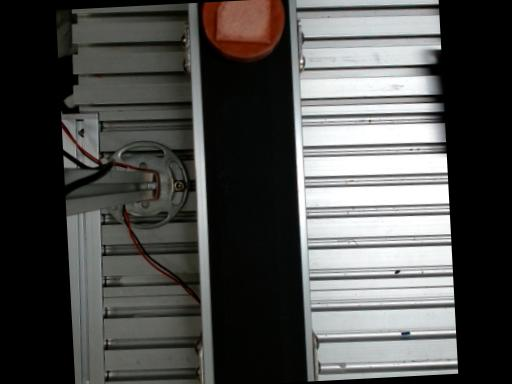Brown_Waper: (201, 0, 284, 61)
Not_Square: (214, 0, 271, 45)
